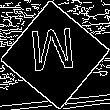M_S: (29, 28, 81, 82)
